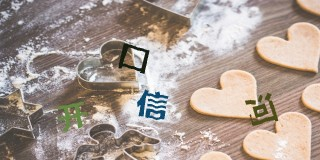信: (135, 88, 169, 120)
口: (119, 42, 149, 74)
开: (58, 100, 87, 130)
河: (245, 93, 279, 126)
